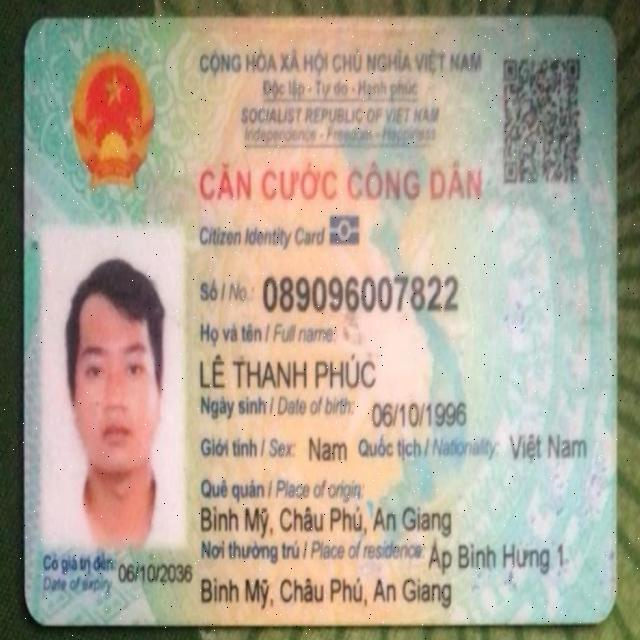current_place: (197, 572, 456, 617), (427, 536, 571, 575)
dob: (373, 395, 468, 430)
expire_date: (116, 557, 194, 586)
gender: (307, 434, 349, 465)
id: (262, 270, 460, 315)
name: (196, 348, 380, 398)
nationality: (506, 425, 591, 467)
origin_place: (199, 502, 455, 540)
